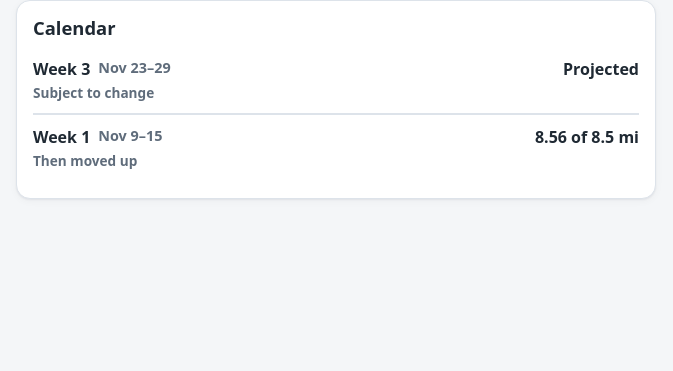
Test: CalendarCard: the projected week › opens to show the planned runs and why
Click the button "Week 3 Nov 23–29 Projected Subject to change". click: (62, 69)
box: [33,47,639,114]
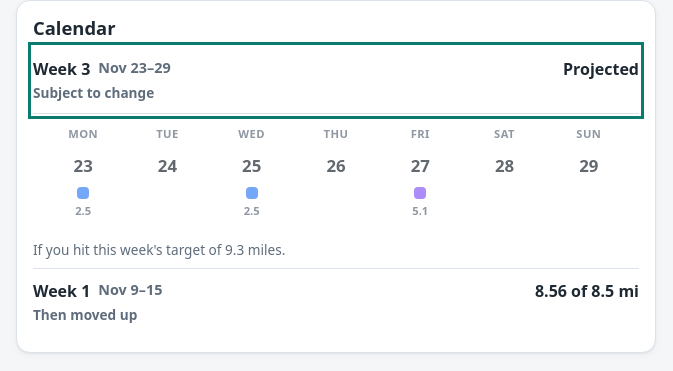
Expected: the element named "Week 3, projected" is shown, [33,114,639,232]
